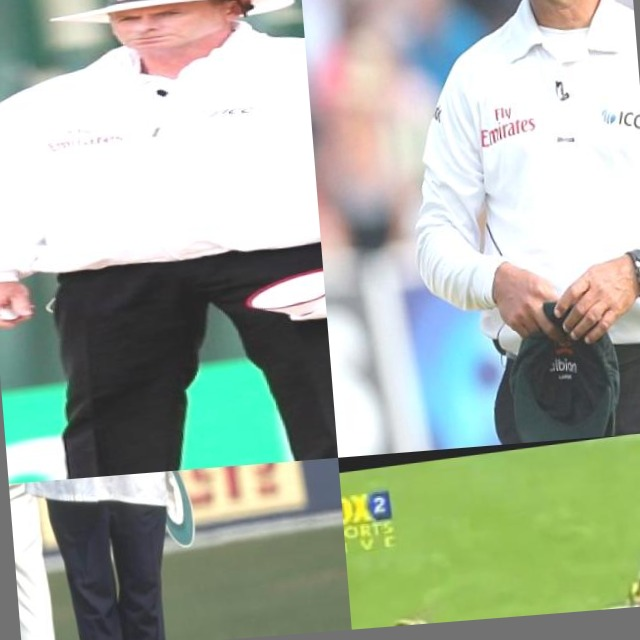No_Action: (0, 0, 338, 484), (361, 0, 640, 453)
Out: (9, 468, 222, 640)
Wide: (378, 517, 640, 627)
